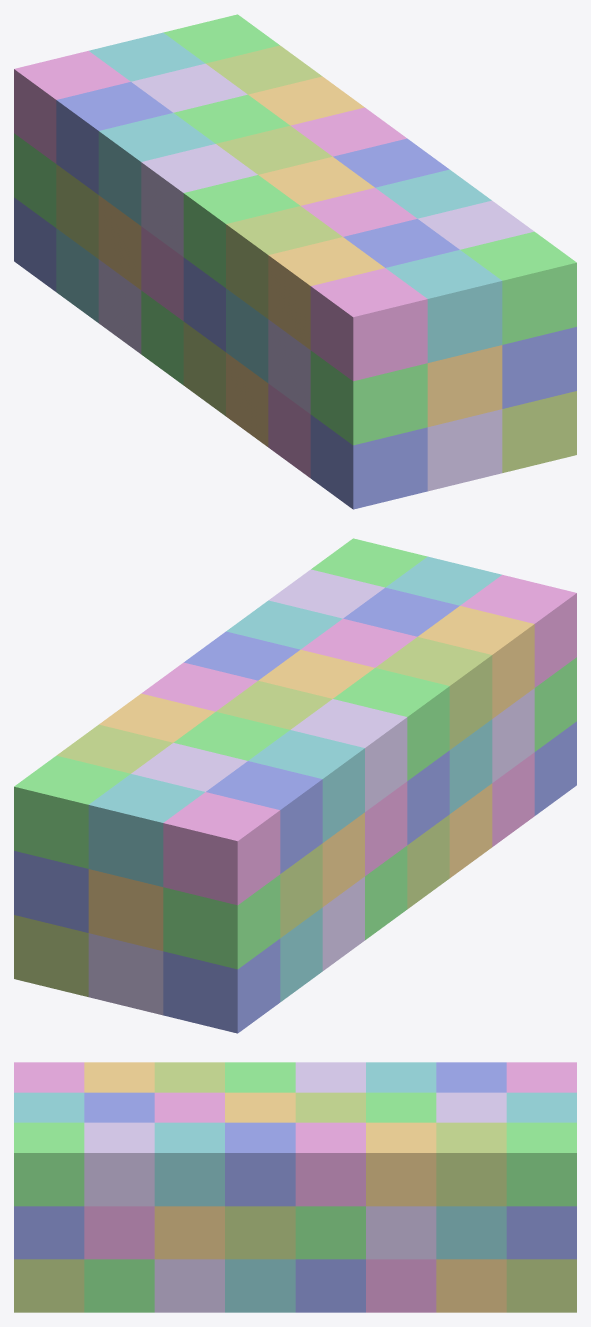
File: Blocks 3x8x3.fbx
3 views of the same model, one above another, from view 1: azimuth 30°, elevation 25°; view 2: azimuth 150°, elevation 25°; view 3: azimuth 270°, elevation 25° (orthographic). The views are drawn at different scales.
Visible parts, largest first — view 1: BoxBlock_1-A-III.001, BoxBlock_1-B-III.001, BoxBlock_1-C-III.001, BoxBlock_1-A-I.001, BoxBlock_1-A-II.001, BoxBlock_6-A-III.001, BoxBlock_3-A-III.001, BoxBlock_5-A-III.001, BoxBlock_7-A-III.001, BoxBlock_2-A-III.001, BoxBlock_4-A-III.001, BoxBlock_8-A-III.001 (+32 smaller); view 2: BoxBlock_8-A-III.001, BoxBlock_8-B-III.001, BoxBlock_8-C-III.001, BoxBlock_8-A-I.001, BoxBlock_8-A-II.001, BoxBlock_3-A-III.001, BoxBlock_2-A-III.001, BoxBlock_4-A-III.001, BoxBlock_6-A-III.001, BoxBlock_7-A-III.001, BoxBlock_1-A-III.001, BoxBlock_5-A-III.001 (+32 smaller); view 3: BoxBlock_2-C-III.001, BoxBlock_4-C-III.001, BoxBlock_7-C-III.001, BoxBlock_1-C-III.001, BoxBlock_3-C-III.001, BoxBlock_5-C-III.001, BoxBlock_6-C-III.001, BoxBlock_8-C-III.001, BoxBlock_1-C-I.001, BoxBlock_2-C-I.001, BoxBlock_2-C-II.001, BoxBlock_3-C-I.001 (+28 smaller).
Boxes of the visible parts, bbox=[...] form: BoxBlock_1-A-III.001: bbox=[310, 268, 427, 381]; BoxBlock_1-B-III.001: bbox=[386, 250, 502, 362]; BoxBlock_1-C-III.001: bbox=[460, 231, 576, 344]; BoxBlock_1-A-I.001: bbox=[310, 415, 427, 509]; BoxBlock_1-A-II.001: bbox=[310, 350, 427, 445]; BoxBlock_6-A-III.001: bbox=[98, 113, 215, 225]; BoxBlock_3-A-III.001: bbox=[226, 206, 342, 318]; BoxBlock_5-A-III.001: bbox=[141, 144, 257, 256]; BoxBlock_7-A-III.001: bbox=[56, 82, 172, 194]; BoxBlock_2-A-III.001: bbox=[268, 237, 384, 349]; BoxBlock_4-A-III.001: bbox=[183, 175, 299, 287]; BoxBlock_8-A-III.001: bbox=[14, 51, 130, 163]; BoxBlock_8-A-III.001: bbox=[163, 792, 280, 905]; BoxBlock_8-B-III.001: bbox=[88, 774, 204, 886]; BoxBlock_8-C-III.001: bbox=[14, 755, 130, 868]; BoxBlock_8-A-I.001: bbox=[163, 939, 280, 1033]; BoxBlock_8-A-II.001: bbox=[163, 874, 280, 969]; BoxBlock_3-A-III.001: bbox=[375, 637, 492, 749]; BoxBlock_2-A-III.001: bbox=[418, 606, 534, 718]; BoxBlock_4-A-III.001: bbox=[333, 668, 449, 780]; BoxBlock_6-A-III.001: bbox=[248, 730, 364, 842]; BoxBlock_7-A-III.001: bbox=[206, 761, 322, 873]; BoxBlock_1-A-III.001: bbox=[460, 575, 576, 687]; BoxBlock_5-A-III.001: bbox=[291, 699, 407, 811]; BoxBlock_2-C-III.001: bbox=[84, 1122, 154, 1206]; BoxBlock_4-C-III.001: bbox=[225, 1122, 295, 1206]; BoxBlock_7-C-III.001: bbox=[436, 1122, 506, 1206]; BoxBlock_1-C-III.001: bbox=[14, 1122, 84, 1206]; BoxBlock_3-C-III.001: bbox=[154, 1122, 224, 1206]; BoxBlock_5-C-III.001: bbox=[295, 1122, 365, 1206]; BoxBlock_6-C-III.001: bbox=[366, 1122, 436, 1206]; BoxBlock_8-C-III.001: bbox=[506, 1122, 576, 1206]; BoxBlock_1-C-I.001: bbox=[14, 1259, 84, 1312]; BoxBlock_2-C-I.001: bbox=[84, 1259, 154, 1312]; BoxBlock_2-C-II.001: bbox=[84, 1206, 154, 1259]; BoxBlock_3-C-I.001: bbox=[154, 1259, 224, 1312].
Bounding box in the file's own units: 5600 × 4600 × 14700.
